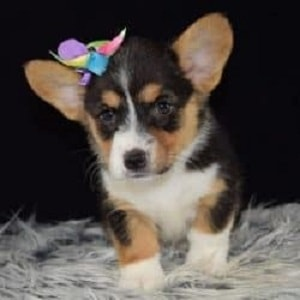corgi: (25, 7, 242, 200)
